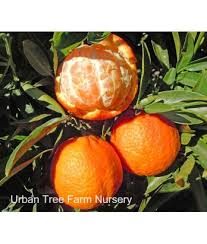orange: (47, 32, 144, 119), (44, 139, 126, 212), (104, 105, 182, 180)
